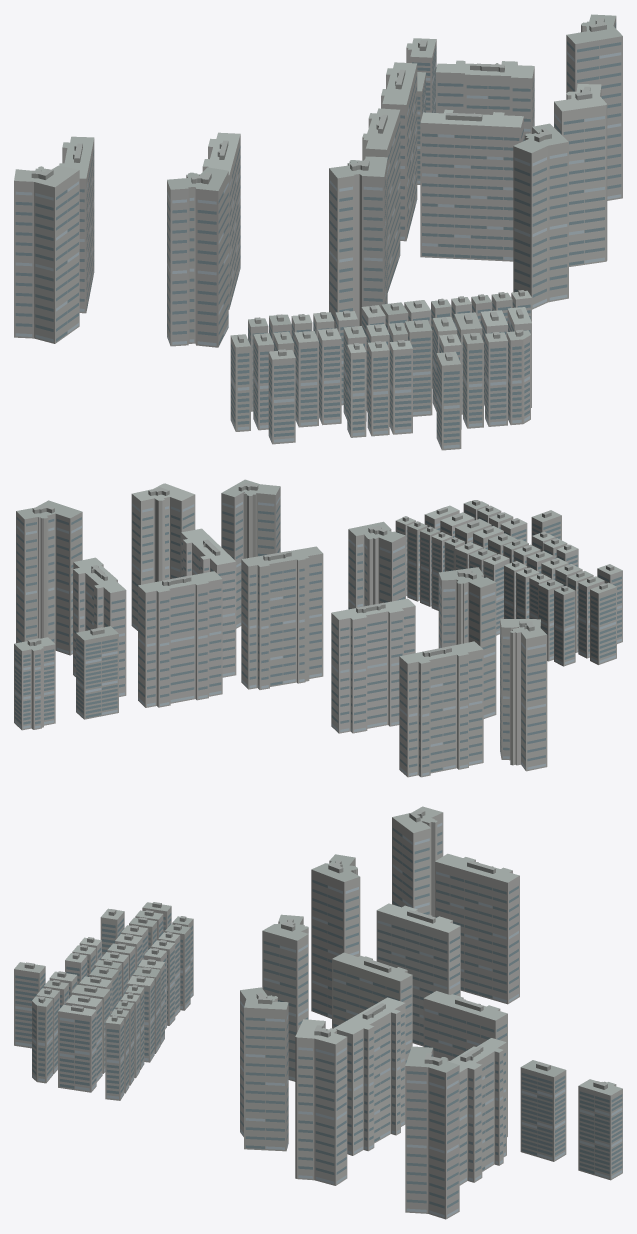
File: apt-a13822002.glb
3 views of the same model, one above another, from view 1: azimuth 30°, elevation 25°; view 2: azimuth 150°, elevation 25°; view 3: azimuth 270°, elevation 25° (orthographic). The views are drawn at different scales.
Parts seen in each view (by area): view 1: apt-a13822002; view 2: apt-a13822002; view 3: apt-a13822002.
Boxes of the visible parts, x1,y1,x2,y2 form: apt-a13822002: [14, 14, 622, 450]; apt-a13822002: [14, 479, 622, 777]; apt-a13822002: [14, 806, 622, 1219].
Bounding box in the file's own units: 348 × 90 × 330.
